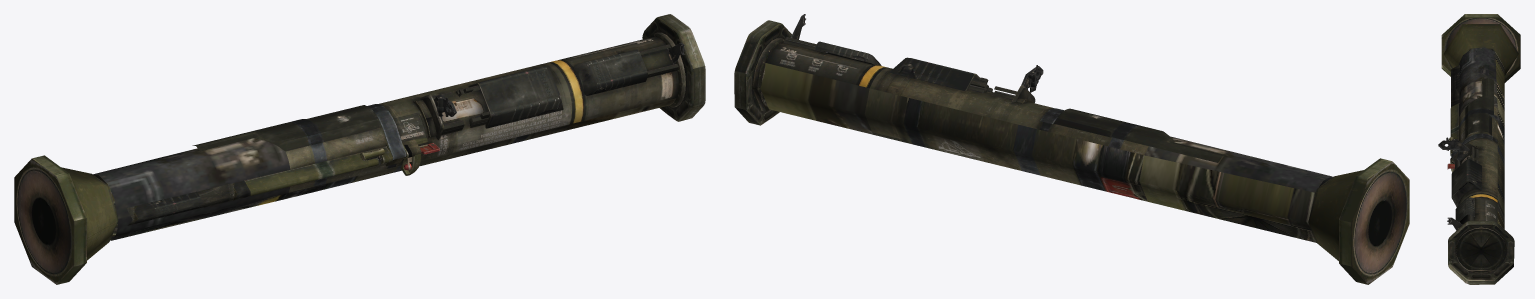
The model's file is viewmodel_at4_LOD0.obj.
The picture shows the model from 3 angles, left to right: view 1: azimuth 30°, elevation 25°; view 2: azimuth 150°, elevation 25°; view 3: azimuth 270°, elevation 25°; orthographic projection. The views are drawn at different scales.
Parts seen in each view (by area): view 1: mtl_weapon_at4; view 2: mtl_weapon_at4; view 3: mtl_weapon_at4.
Boxes of the visible parts, left/top/right/bottom form: mtl_weapon_at4: left=14, top=14, right=705, bottom=284; mtl_weapon_at4: left=734, top=14, right=1409, bottom=284; mtl_weapon_at4: left=1438, top=14, right=1520, bottom=284.
Size of the model in its own units: 124 by 20.21 by 21.13.
